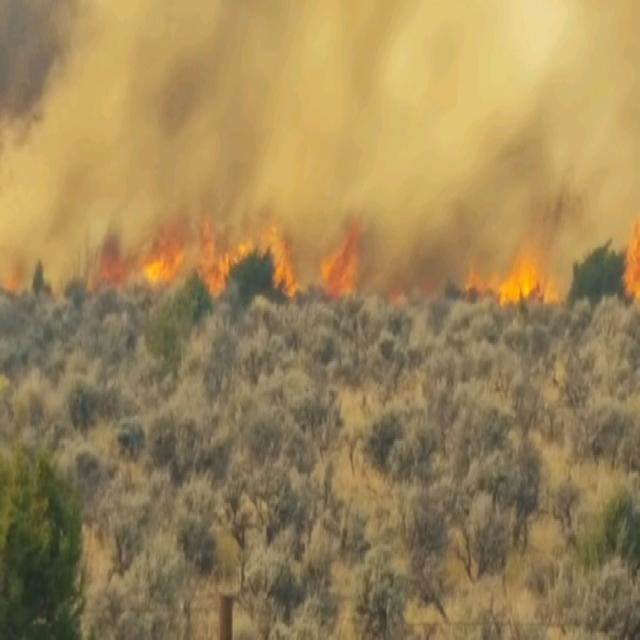Fire: (84, 214, 302, 308), (462, 230, 568, 311), (312, 213, 369, 311), (621, 212, 640, 312)
Smoke: (384, 0, 640, 299), (0, 0, 192, 302), (151, 0, 357, 249)
